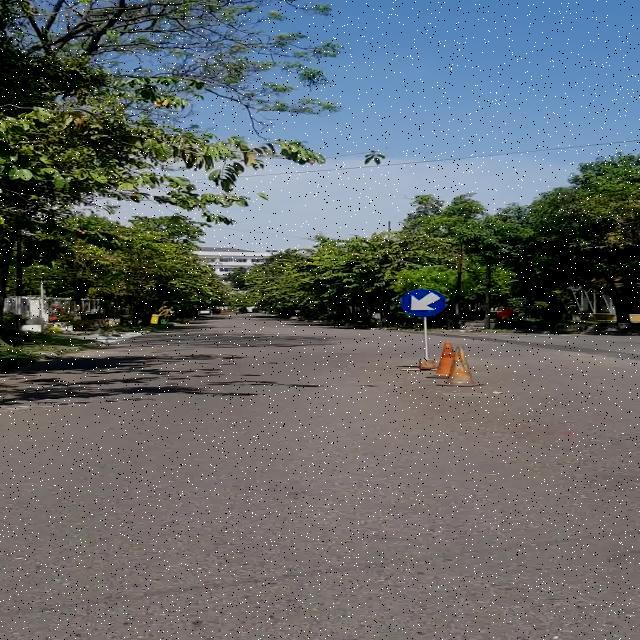Lajur Kiri: (402, 289, 446, 316)
